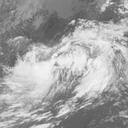cyclone: (32, 34, 102, 94)
